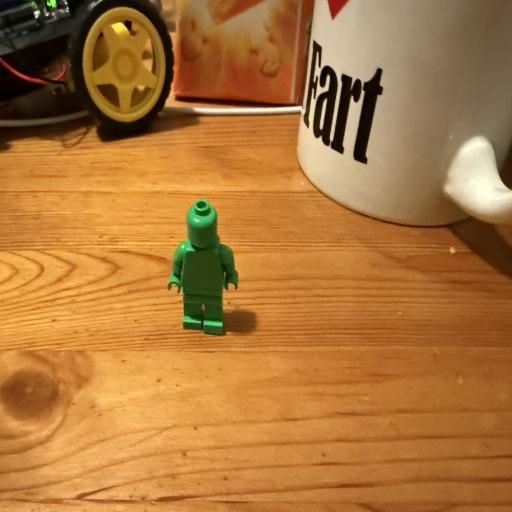Minifig: (168, 199, 238, 334)
